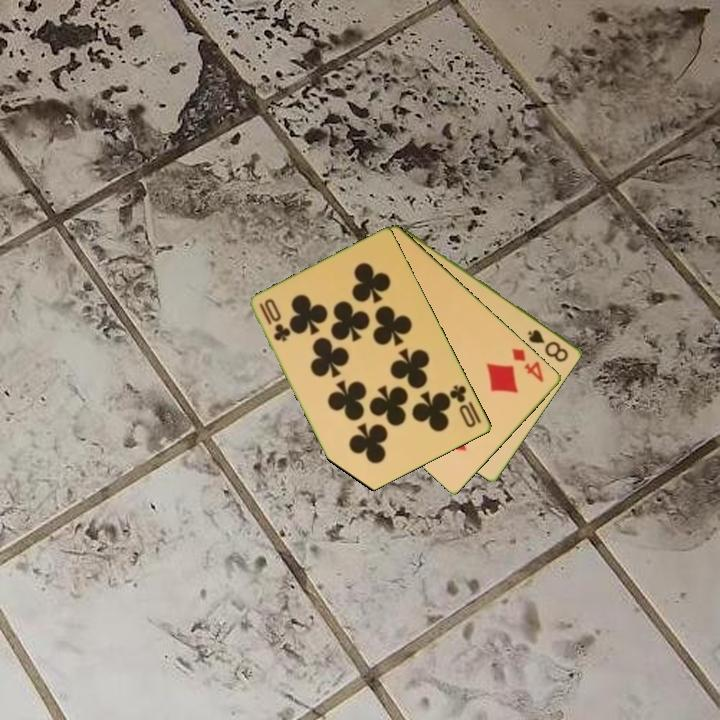10c: (446, 381, 485, 431), (256, 295, 293, 345)
4d: (509, 344, 547, 386)
8s: (524, 326, 572, 365)
